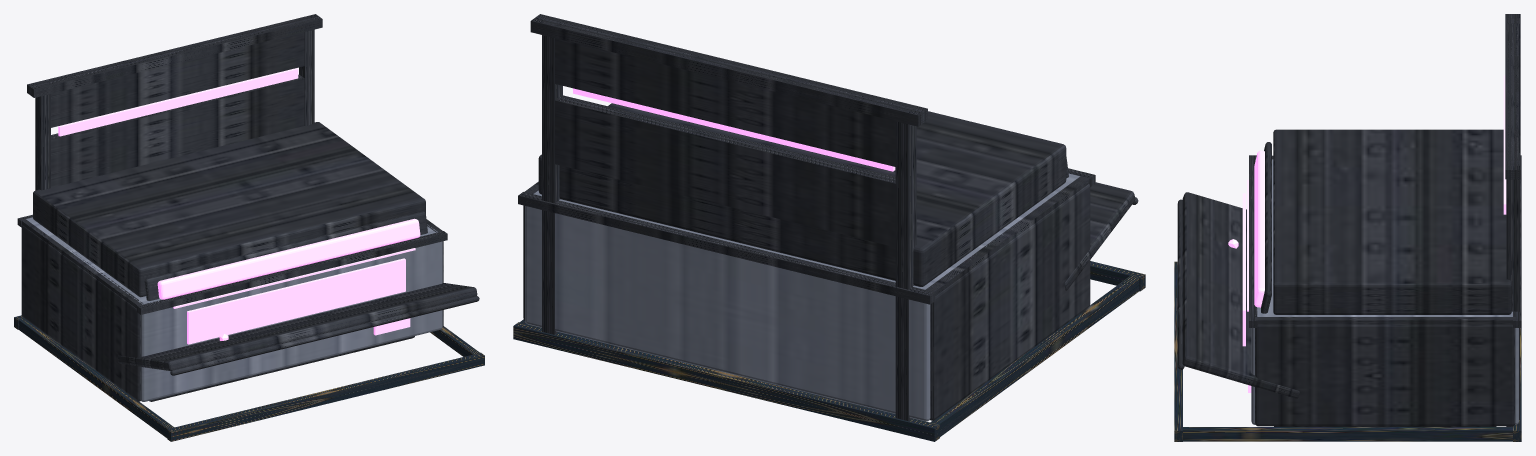
File: fun_arcade.glb
3 renders of one model, left to right at view 1: azimuth 30°, elevation 25°; view 2: azimuth 150°, elevation 25°; view 3: azimuth 270°, elevation 25°, orthographic. The views are drawn at different scales.
Visible parts, largest first — view 1: head, sight_shell, body, cheek0, scr, deck, marquee, shelltoe0, shellrim0, sightglow, shelltoes0, marqframe (+5 smaller); view 2: sight_shell, body, head, cheek0, shelltoe2, shellrim2, shelltoes0, deck, shellrims0, sightglow, shelltoe0; view 3: head, cheek2, deck, shelltoes2, sight_shell, shellrims2, marquee, body, marqframe, shellrim0, shelltoe0, decklip (+4 smaller).
Part boxes in pixels (x1,y1,x2,y2): head: (33, 122, 425, 297); sight_shell: (27, 14, 322, 190); body: (26, 217, 442, 401); cheek0: (21, 225, 140, 401); scr: (187, 258, 405, 344); deck: (117, 283, 477, 370); marquee: (157, 218, 420, 299); shelltoe0: (167, 352, 484, 441); shellrim0: (137, 231, 447, 314); sightglow: (58, 68, 298, 136); shelltoes0: (18, 317, 175, 437); marqframe: (144, 211, 427, 300); sight_shell: (530, 14, 927, 421); body: (525, 173, 1079, 421); head: (538, 103, 1066, 286); cheek0: (930, 184, 1090, 420); shelltoe2: (513, 322, 939, 441); shellrim2: (518, 192, 935, 304); shelltoes0: (930, 274, 1139, 436); deck: (1064, 182, 1135, 290); shellrims0: (925, 176, 1089, 295); sightglow: (573, 88, 895, 171); shelltoe0: (1090, 261, 1145, 291); head: (1273, 129, 1511, 314); cheek2: (1255, 324, 1515, 426); deck: (1182, 192, 1299, 398); shelltoes2: (1183, 427, 1512, 441); sight_shell: (1505, 14, 1520, 426); shellrims2: (1255, 317, 1515, 324); marquee: (1254, 150, 1264, 307); body: (1251, 159, 1518, 424); marqframe: (1261, 142, 1271, 313); shellrim0: (1249, 155, 1257, 327); shelltoe0: (1174, 261, 1182, 441); decklip: (1177, 199, 1184, 369).
Size of the model in its own units: 2.33 by 1.7 by 2.02.
7 materials, 5 textured.
